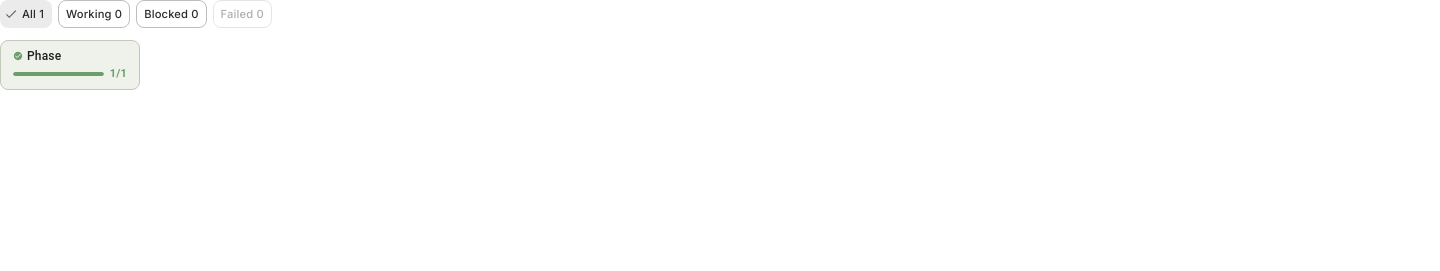
Scenario: Pipeline: task chips › shows completed chip on done tasks even without a matching session
# Phase has no WIP tasks so it won't auto-expand — click to expand
Click the button with test id "phase-card". click: (70,65)
box: [0, 40, 140, 90]
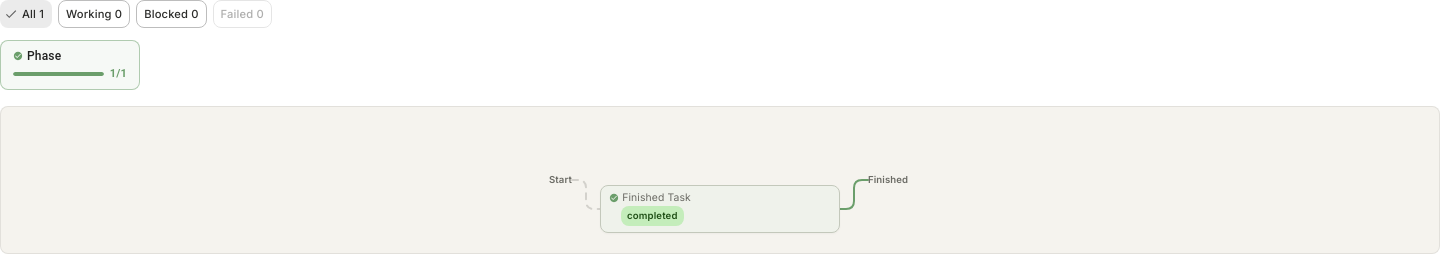
Expected: the text "completed" is shown, [627, 210, 678, 221]
